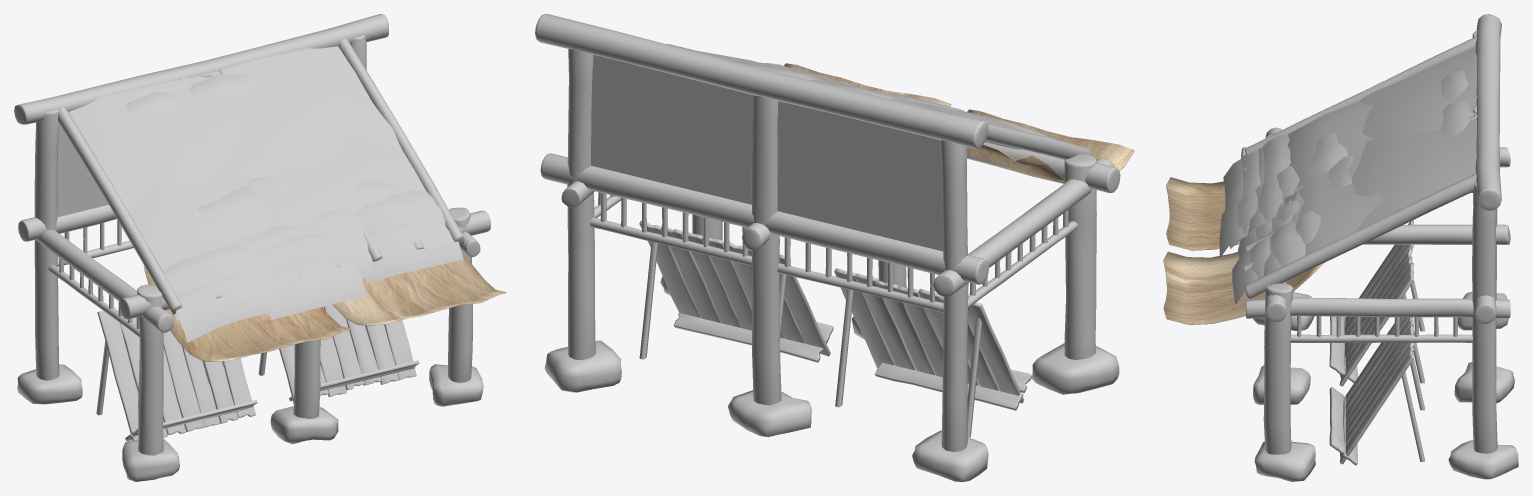
File: ThatchedHouseE.fbx
3 views of the same model, side by side, from view 1: azimuth 30°, elevation 25°; view 2: azimuth 150°, elevation 25°; view 3: azimuth 270°, elevation 25° (orthographic). The views are drawn at different scales.
Visible parts, largest first — view 1: RoofAlbedoE, ThatchedHouseE_07, RoofAlphaE, Gapandea, ThatchedHouseE_03, ThatchedHouseE_01, ThatchedHouseE_06; view 2: ThatchedHouseE_07, ThatchedHouseE_06, Gapandea, ThatchedHouseE_01, ThatchedHouseE_03, RoofAlphaE, RoofAlbedoE; view 3: ThatchedHouseE_07, RoofAlbedoE, RoofAlphaE, Gapandea, ThatchedHouseE_03, ThatchedHouseE_01.
Boxes of the visible parts, x1=… form: RoofAlbedoE: x1=68, y1=46, x2=425, y2=269; ThatchedHouseE_07: x1=14, y1=14, x2=490, y2=455; RoofAlphaE: x1=126, y1=73, x2=463, y2=342; Gapandea: x1=96, y1=304, x2=419, y2=441; ThatchedHouseE_03: x1=144, y1=250, x2=506, y2=361; ThatchedHouseE_01: x1=17, y1=326, x2=483, y2=481; ThatchedHouseE_06: x1=57, y1=124, x2=108, y2=217; ThatchedHouseE_07: x1=535, y1=14, x2=1120, y2=451; ThatchedHouseE_06: x1=591, y1=55, x2=943, y2=251; Gapandea: x1=639, y1=220, x2=1032, y2=437; ThatchedHouseE_01: x1=544, y1=276, x2=1119, y2=481; ThatchedHouseE_03: x1=784, y1=63, x2=1134, y2=183; RoofAlphaE: x1=738, y1=62, x2=1054, y2=138; RoofAlbedoE: x1=667, y1=44, x2=1023, y2=131; ThatchedHouseE_07: x1=1241, y1=14, x2=1510, y2=454; RoofAlbedoE: x1=1284, y1=46, x2=1477, y2=255; RoofAlphaE: x1=1219, y1=70, x2=1473, y2=304; Gapandea: x1=1329, y1=220, x2=1424, y2=465; ThatchedHouseE_03: x1=1163, y1=177, x2=1324, y2=324; ThatchedHouseE_01: x1=1253, y1=292, x2=1518, y2=481.
Size of the model in its own units: 207 by 174 by 161.
